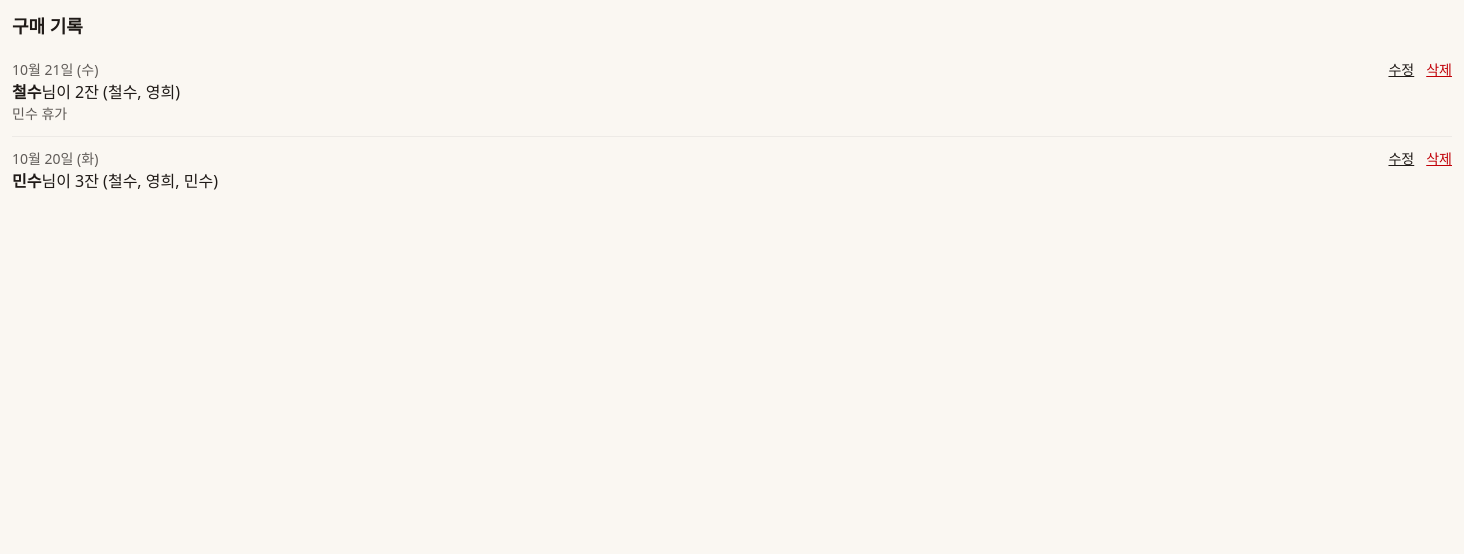
Test case: PurchaseHistory › keeps the form open when the update fails
Step 1. Click the button "수정" in the row of "10월 21일 (수)" → (1401, 70), box [1388,60,1414,80]
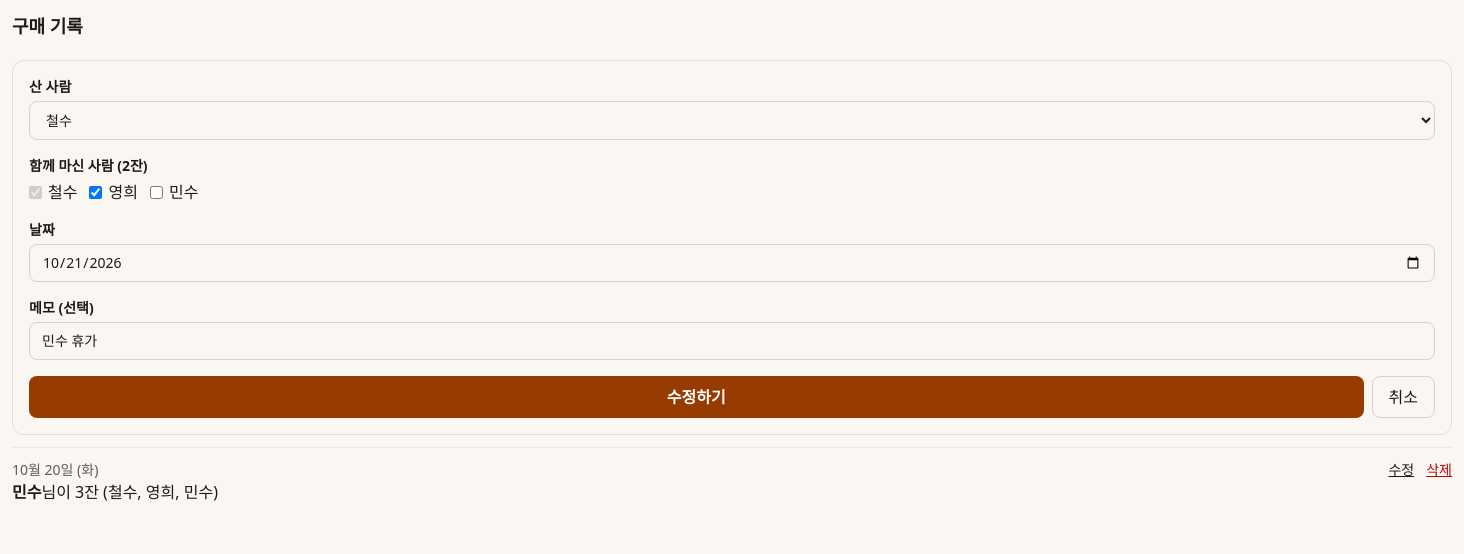
Step 2. Click the button "수정하기" → (696, 397), box [29,376,1364,418]
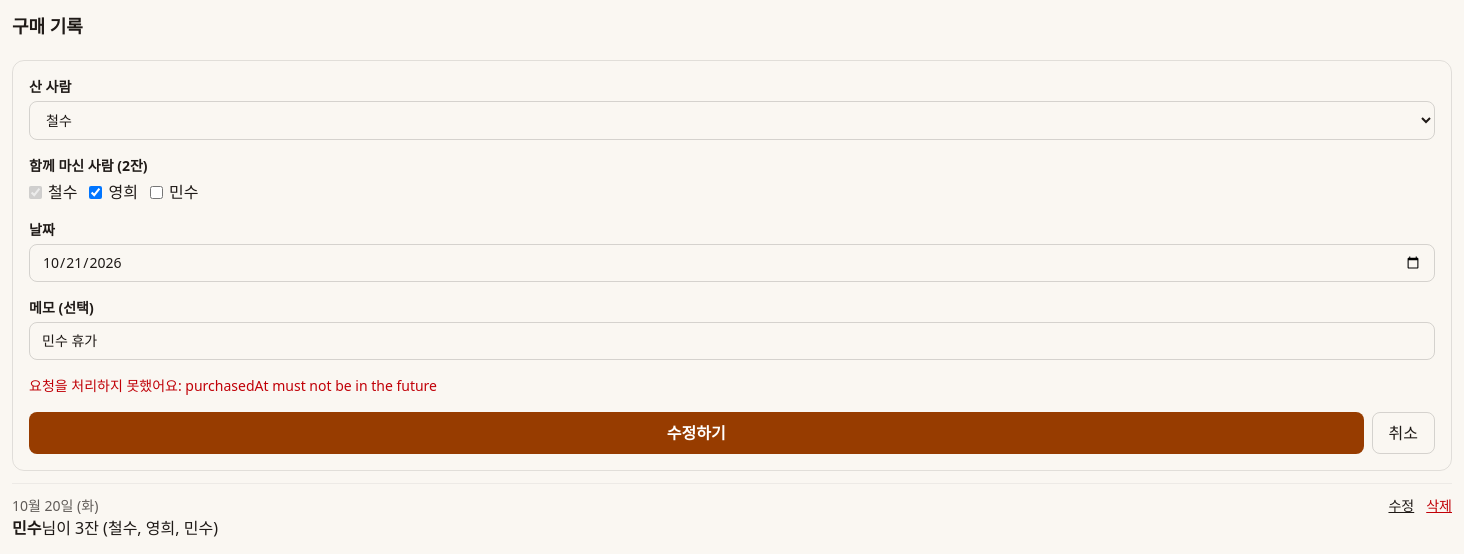
Expected: the form named "구매 기록" is shown
Expected: the message shows "future", [29,376,437,395]
